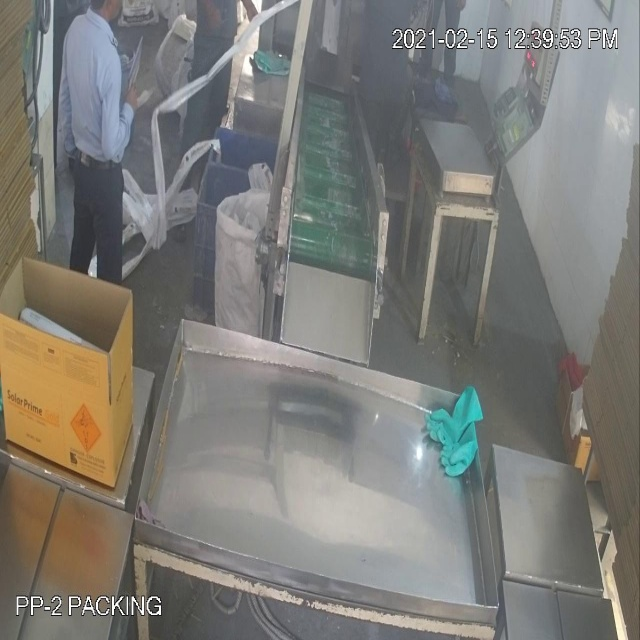Guantes: (426, 373, 486, 490)
Sin_guantes: (98, 49, 142, 173)
